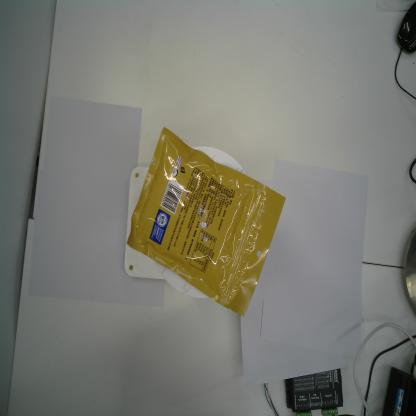Dried Fruit: (126, 125, 286, 318)
